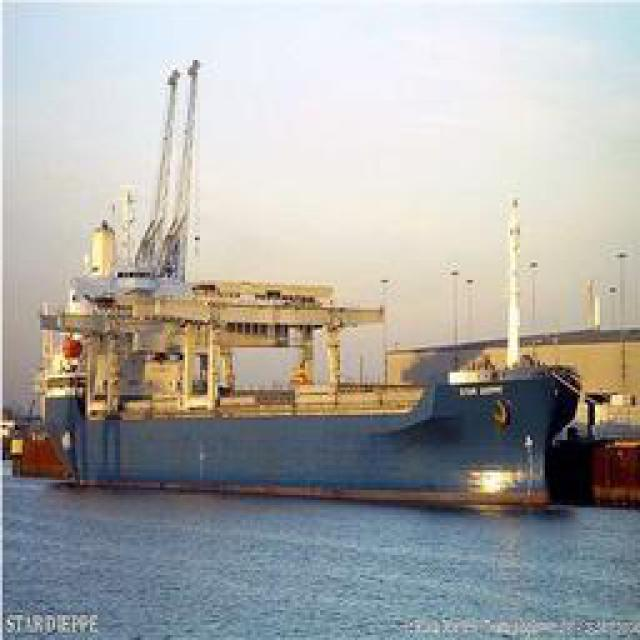Ship: (32, 50, 590, 516)
